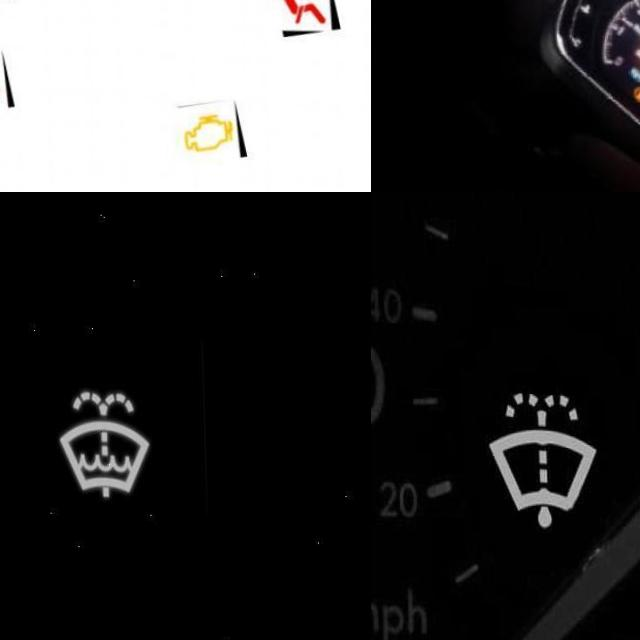Washer Fluid: (483, 383, 600, 531), (54, 387, 147, 495)
